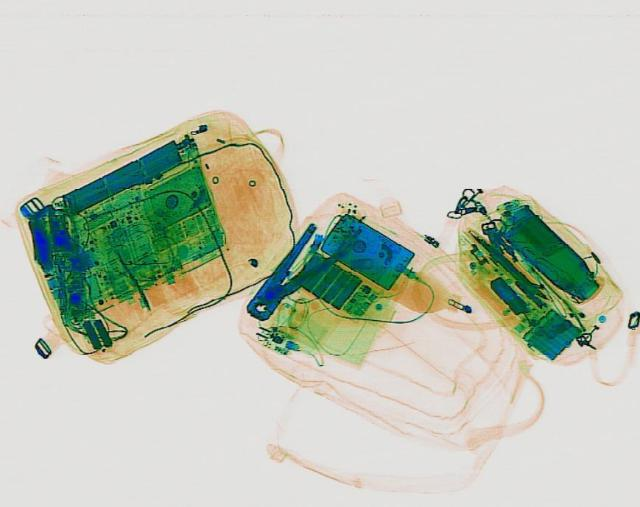Pliers: (230, 222, 354, 327)
